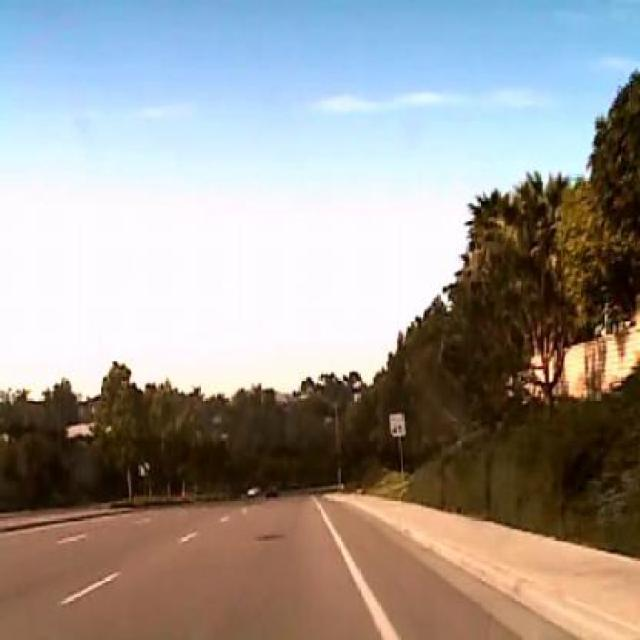speedLimit45: (391, 412, 406, 436)
